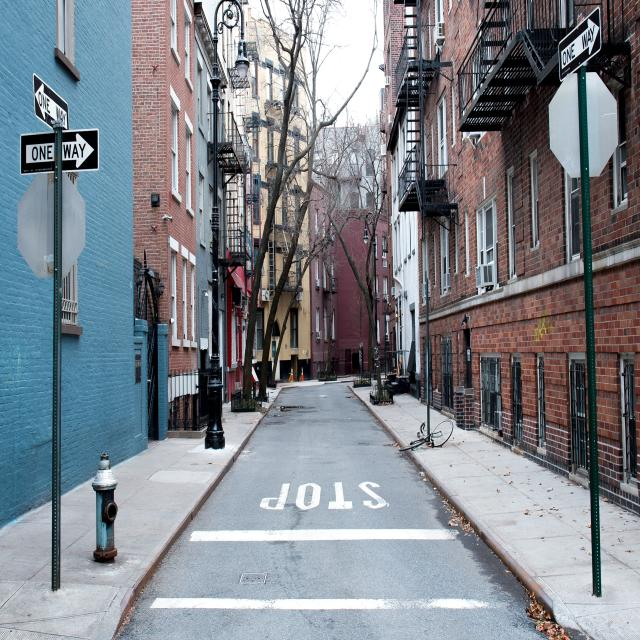Street Light: (204, 1, 252, 447), (363, 210, 388, 403)
